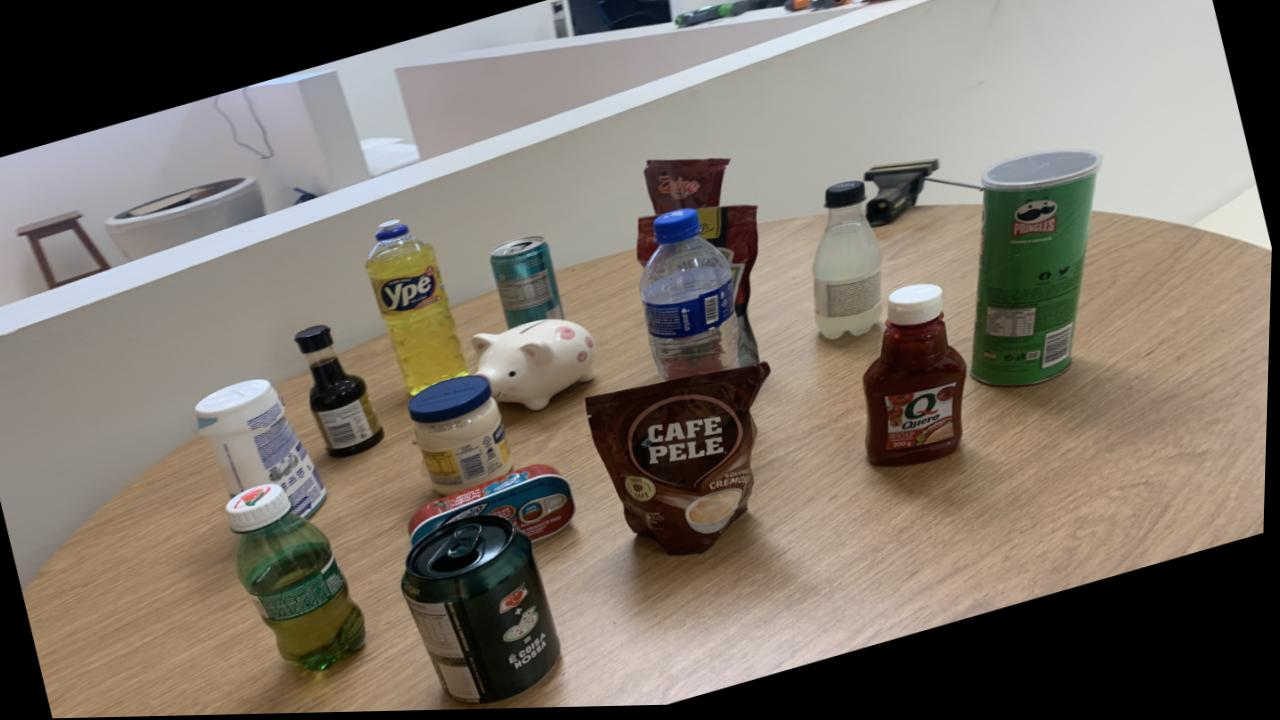Cleaner-Cleanup_Items: (197, 380, 330, 519)
Detergent-Cleanup_Items: (367, 222, 471, 397)
English_Sauce-Pantry_Items: (297, 326, 388, 459)
Guarana-Drinks: (229, 485, 370, 672)
Guarana_Can-Drinks: (404, 517, 565, 706)
Ketchup-Pantry_Items: (866, 288, 969, 470)
Mayonnaise-Pantry_Items: (410, 377, 516, 497)
Pig_Safe-Miscellaneous: (474, 321, 598, 413)
Pringles-Snacks: (973, 153, 1104, 391)
Soda-Drinks: (814, 184, 884, 343)
Tea-Drinks: (492, 238, 565, 331)
Tomato_Sauce-Pantry_Items: (645, 161, 761, 369), (645, 161, 732, 217), (638, 218, 660, 269)
Tuna_Can-Pantry_Items: (411, 466, 579, 547)
Water_Bottle-Drinks: (588, 366, 773, 559), (641, 211, 742, 384)
